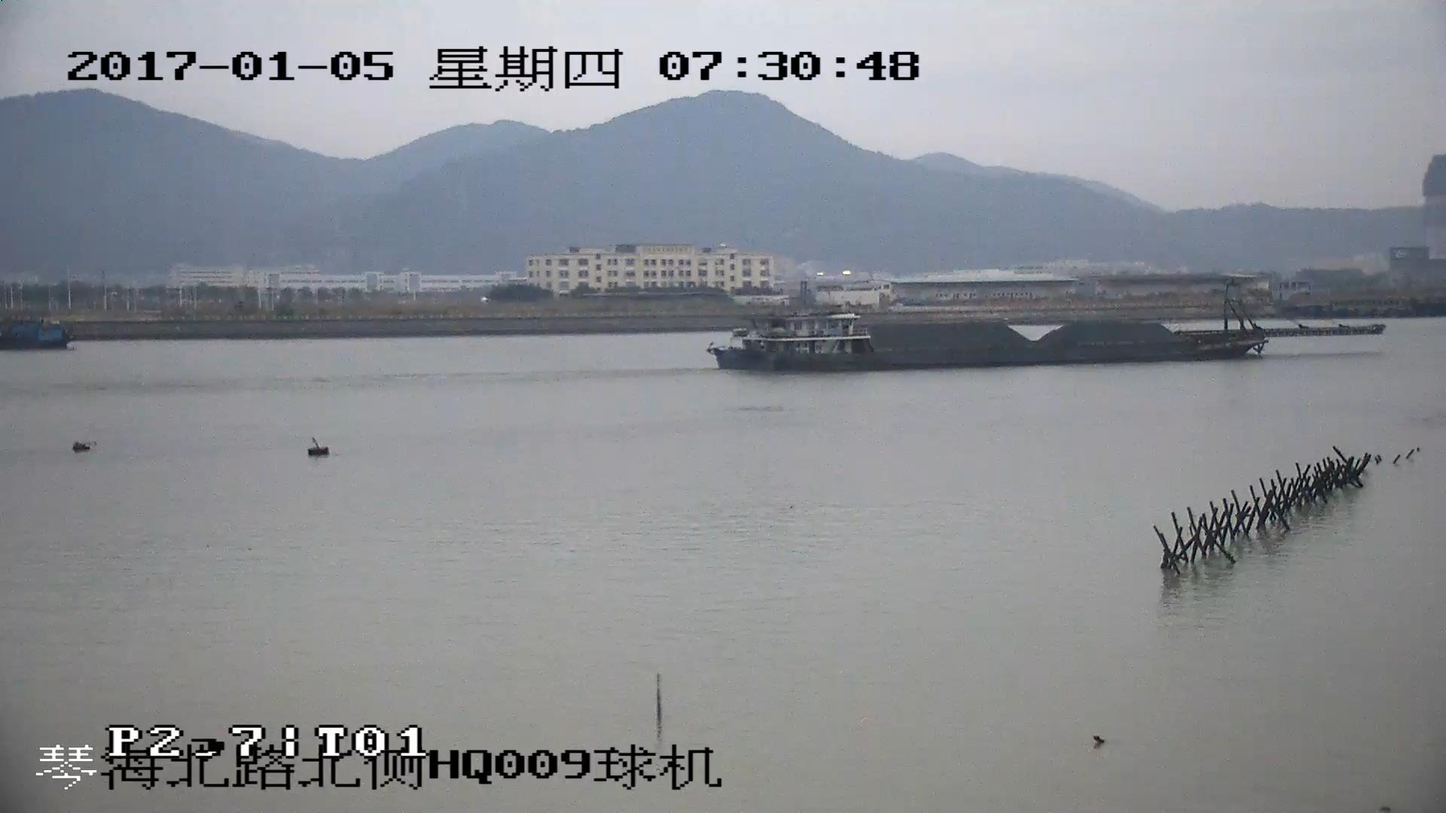ore carrier: (713, 283, 1387, 375)
